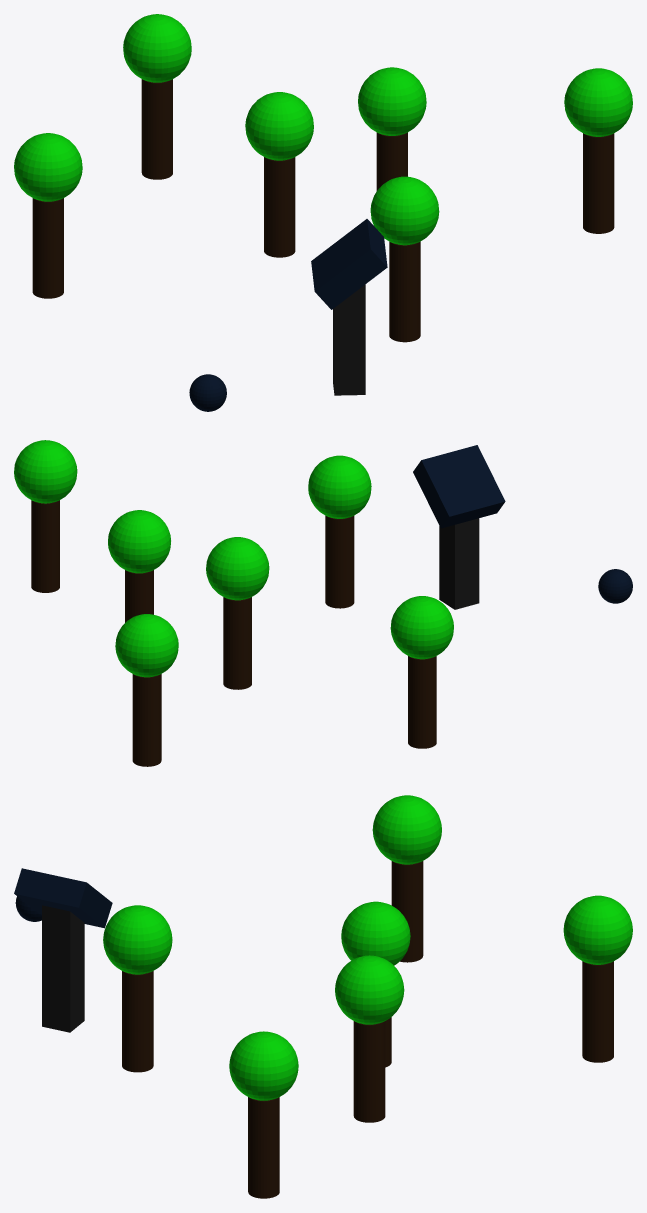
Rendered from exercise20068.obj.
3 renders of one model, top to bottom at view 1: azimuth 30°, elevation 25°; view 2: azimuth 150°, elevation 25°; view 3: azimuth 270°, elevation 25°, orthographic. The views are drawn at different scales.
Visible parts, largest first — view 1: Cube.001, Sphere.005, Sphere, Sphere.002, Sphere.003, Sphere.006, Sphere.004, Cube, Cylinder.002, Cylinder.006, Cylinder.005, Cylinder.003 (+4 smaller); view 2: Cube.001, Cube, Sphere.004, Sphere.003, Sphere.005, Sphere, Sphere.002, Sphere.006, Cylinder.004, Cylinder.005, Cylinder.003, Cylinder.002 (+4 smaller); view 3: Cube, Sphere.003, Sphere.004, Sphere.005, Sphere, Sphere.006, Sphere.002, Cube.001, Cylinder.003, Cylinder.004, Cylinder.005, Cylinder (+2 smaller).
Boxes of the visible parts, x1,y1,x2,y2 form: Cube.001: [311, 219, 387, 309]; Sphere.005: [123, 14, 191, 82]; Sphere: [358, 67, 426, 135]; Sphere.002: [245, 92, 313, 160]; Sphere.003: [564, 68, 632, 136]; Sphere.006: [14, 133, 82, 201]; Sphere.004: [370, 176, 439, 245]; Cube: [333, 284, 365, 395]; Cylinder.002: [264, 157, 295, 257]; Cylinder.006: [32, 198, 63, 298]; Cylinder.005: [141, 79, 172, 179]; Cylinder.003: [583, 133, 614, 233]; Cube.001: [413, 445, 505, 528]; Cube: [439, 518, 479, 609]; Sphere.004: [308, 455, 371, 518]; Sphere.003: [14, 440, 77, 503]; Sphere.005: [115, 614, 178, 677]; Sphere: [108, 510, 170, 573]; Sphere.002: [206, 537, 269, 600]; Sphere.006: [390, 596, 453, 659]; Cylinder.004: [325, 515, 354, 608]; Cylinder.005: [132, 674, 161, 766]; Cylinder.003: [31, 500, 59, 592]; Cylinder.002: [223, 597, 251, 689]; Cube: [42, 905, 84, 1032]; Sphere.003: [229, 1031, 298, 1100]; Sphere.004: [103, 905, 172, 974]; Sphere.005: [563, 895, 632, 964]; Sphere: [335, 955, 404, 1024]; Sphere.006: [372, 795, 441, 864]; Sphere.002: [341, 901, 410, 965]; Cube.001: [14, 868, 112, 928]; Cylinder.003: [248, 1097, 279, 1198]; Cylinder.004: [122, 971, 153, 1072]; Cylinder.005: [582, 961, 613, 1062]; Cylinder: [353, 1021, 385, 1122].
Size of what is drawn, in the model's own units: 40.53 by 11.23 by 39.13.
